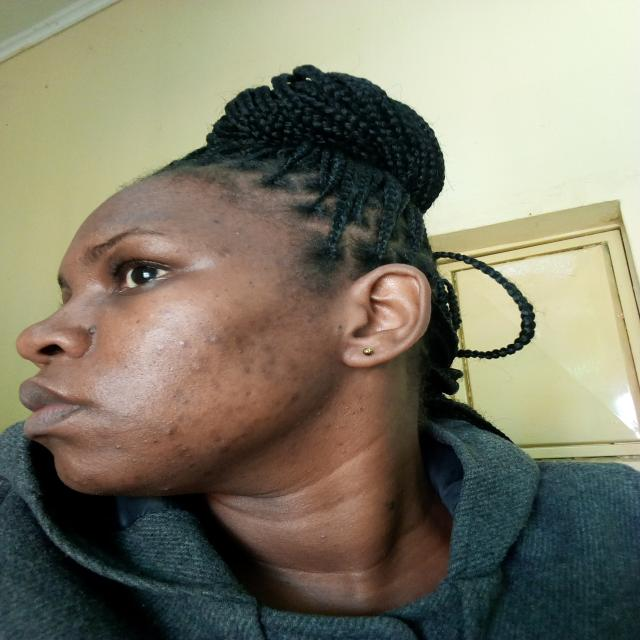Acne: (167, 392, 220, 429), (246, 413, 314, 437), (242, 355, 301, 379), (211, 432, 257, 458), (231, 322, 261, 360), (323, 412, 351, 450), (210, 246, 247, 264), (310, 305, 336, 328), (206, 374, 234, 392), (293, 370, 323, 386), (258, 342, 284, 358), (166, 335, 189, 350), (206, 334, 226, 351), (144, 344, 174, 355), (108, 439, 128, 454), (165, 420, 179, 440), (242, 384, 262, 398), (175, 447, 195, 459), (286, 394, 307, 404), (190, 360, 206, 372), (290, 346, 308, 356), (362, 406, 374, 420), (343, 402, 358, 411), (317, 532, 330, 542), (130, 475, 144, 481), (160, 487, 173, 492), (141, 437, 149, 445), (196, 347, 201, 357), (131, 459, 139, 465), (190, 468, 197, 472), (83, 480, 86, 488)
Eyebags: (112, 282, 184, 298), (101, 294, 136, 312)
